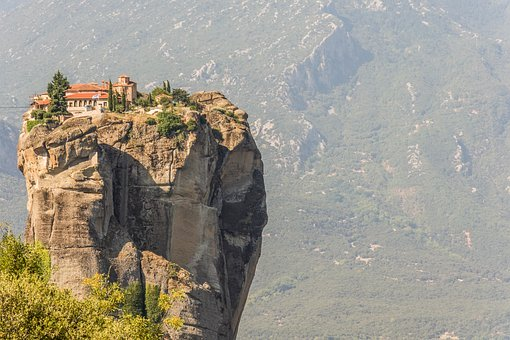mountain: (259, 15, 501, 339), (22, 72, 266, 330)
stone: (30, 118, 284, 336)
